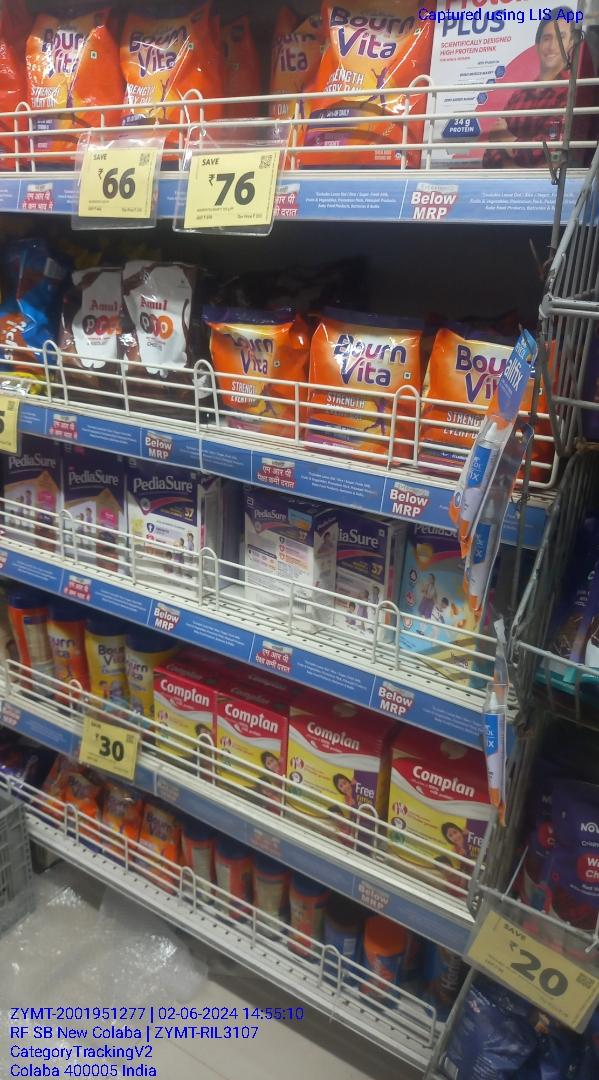BOURN_VITA_CHAMPS_500_G_JAR: (84, 618, 123, 728), (126, 646, 159, 750)
PEDIASURE_CHOCOLATE_500_G_PACK: (65, 448, 124, 576), (3, 429, 58, 554)
